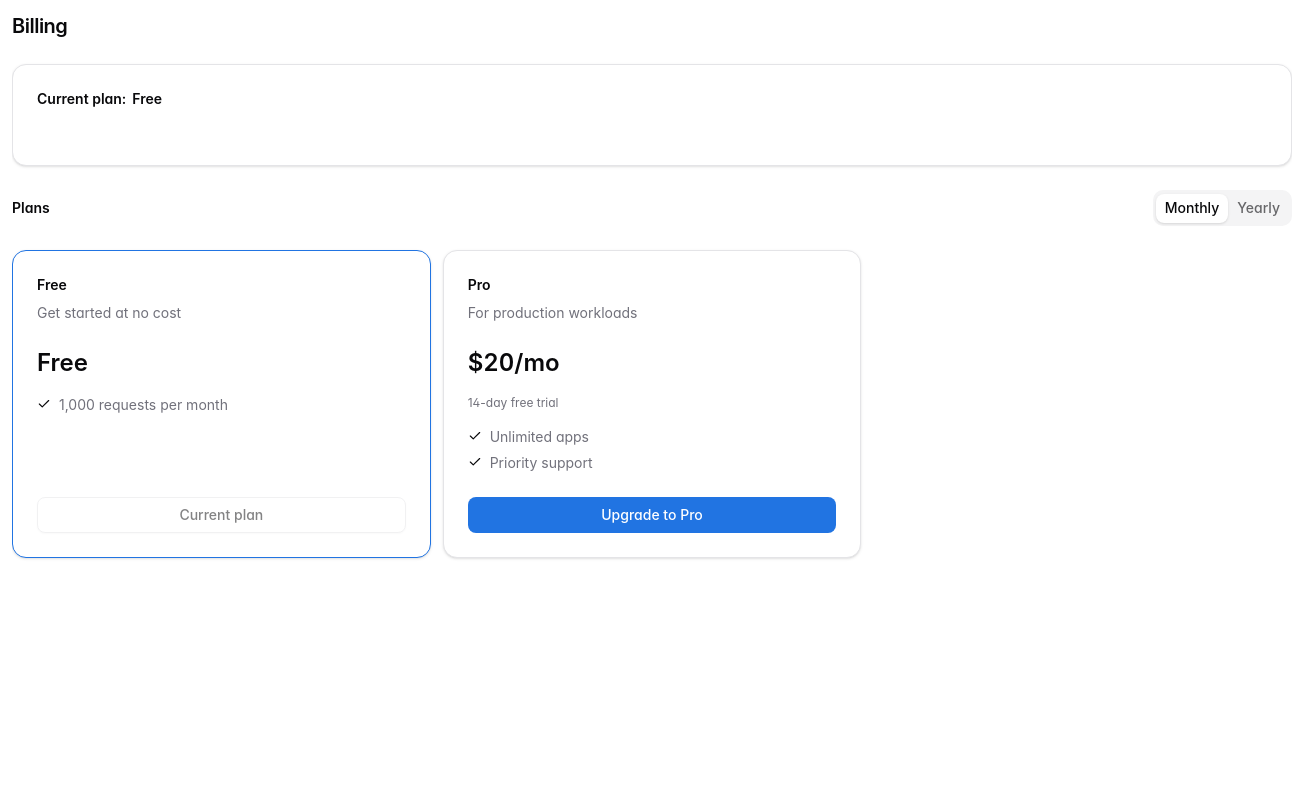
it: BillingPage › lists plans with prices for the selected billing period
Expected: the text "Pro" is shown, [468, 276, 490, 293]
Expected: the text "$20/mo" is shown, [468, 348, 560, 377]
Click the tab "Yearly" at (1259, 208), box [1228, 194, 1289, 222]
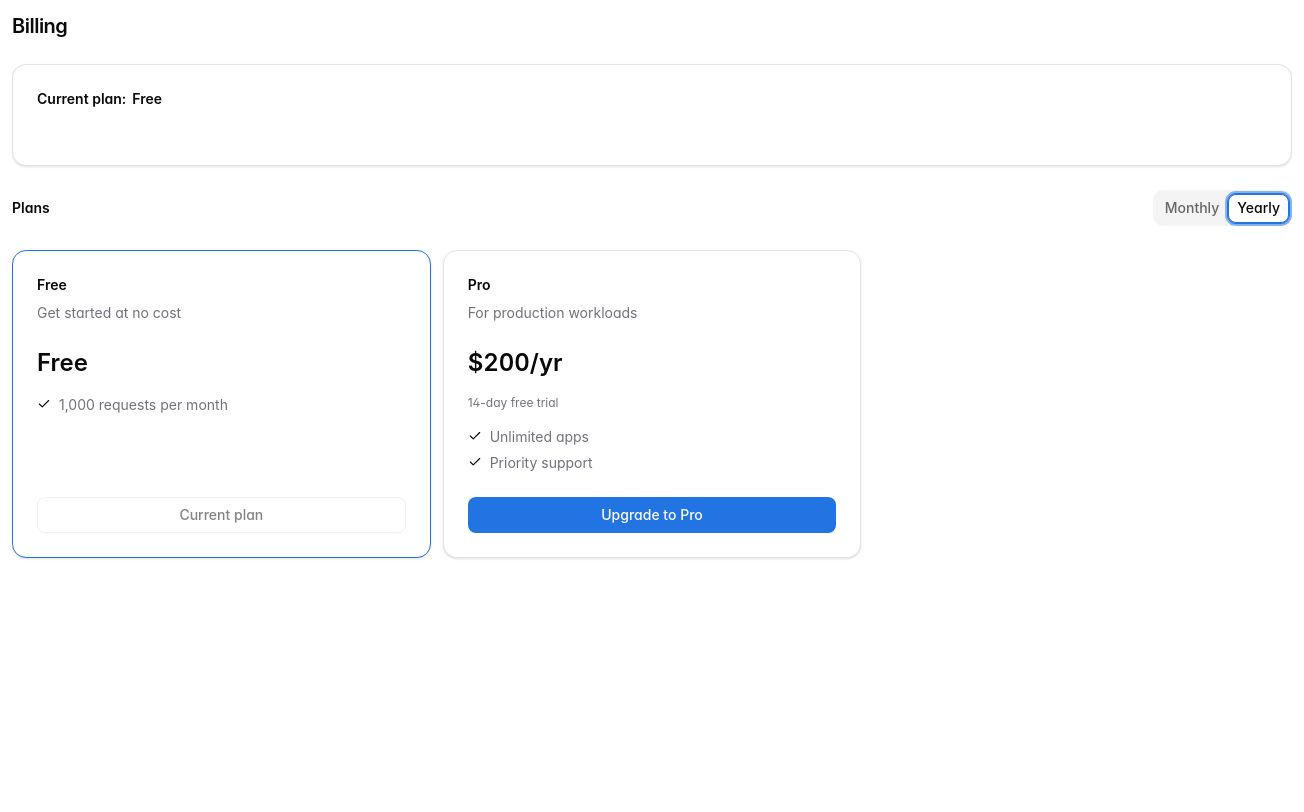
Expected: the text "$200/yr" is shown, [468, 348, 563, 377]
